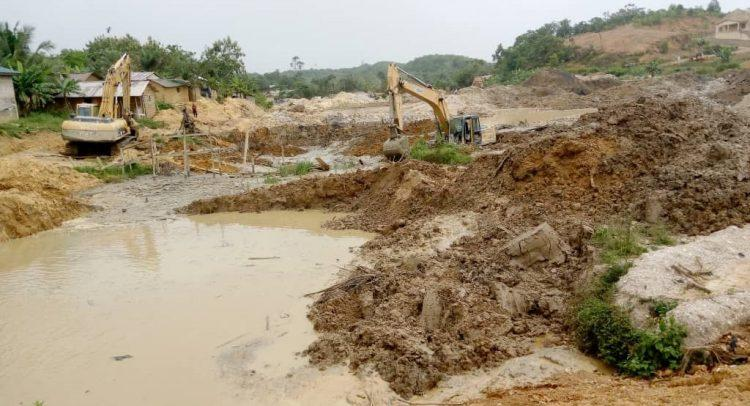ExcavationMachinery: (384, 60, 499, 162), (62, 50, 139, 157)
